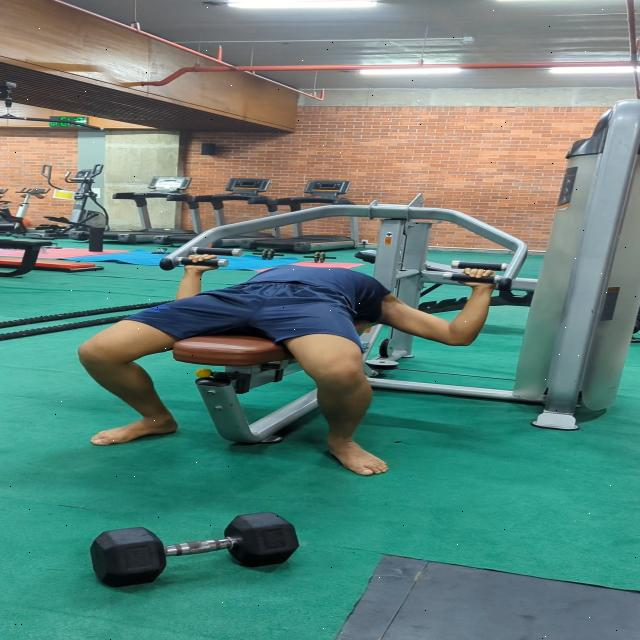Normal_BrenchPress: (24, 234, 508, 489)
